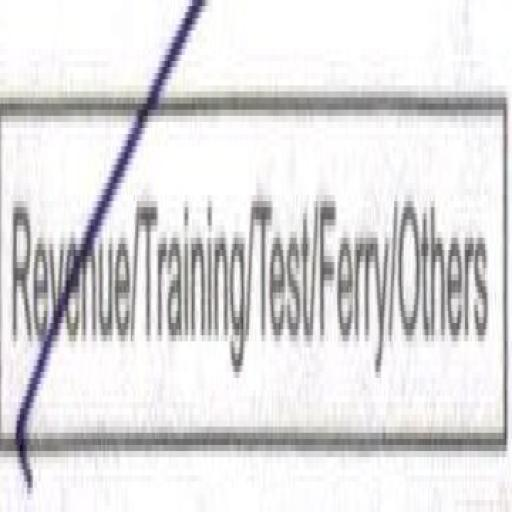check: (0, 68, 140, 496)
